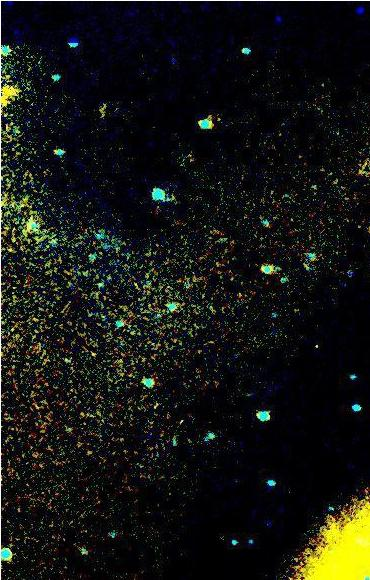star: (0, 80, 18, 110)
